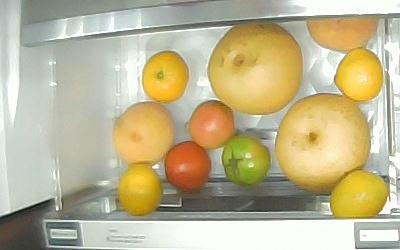peach: (112, 101, 173, 166), (305, 17, 378, 53)
pear: (275, 93, 371, 194), (206, 23, 302, 115)
tangerine: (332, 47, 382, 101), (330, 170, 386, 217), (141, 50, 188, 102), (117, 164, 160, 215)
tomato: (221, 134, 270, 186), (164, 141, 211, 193), (187, 99, 234, 150)
